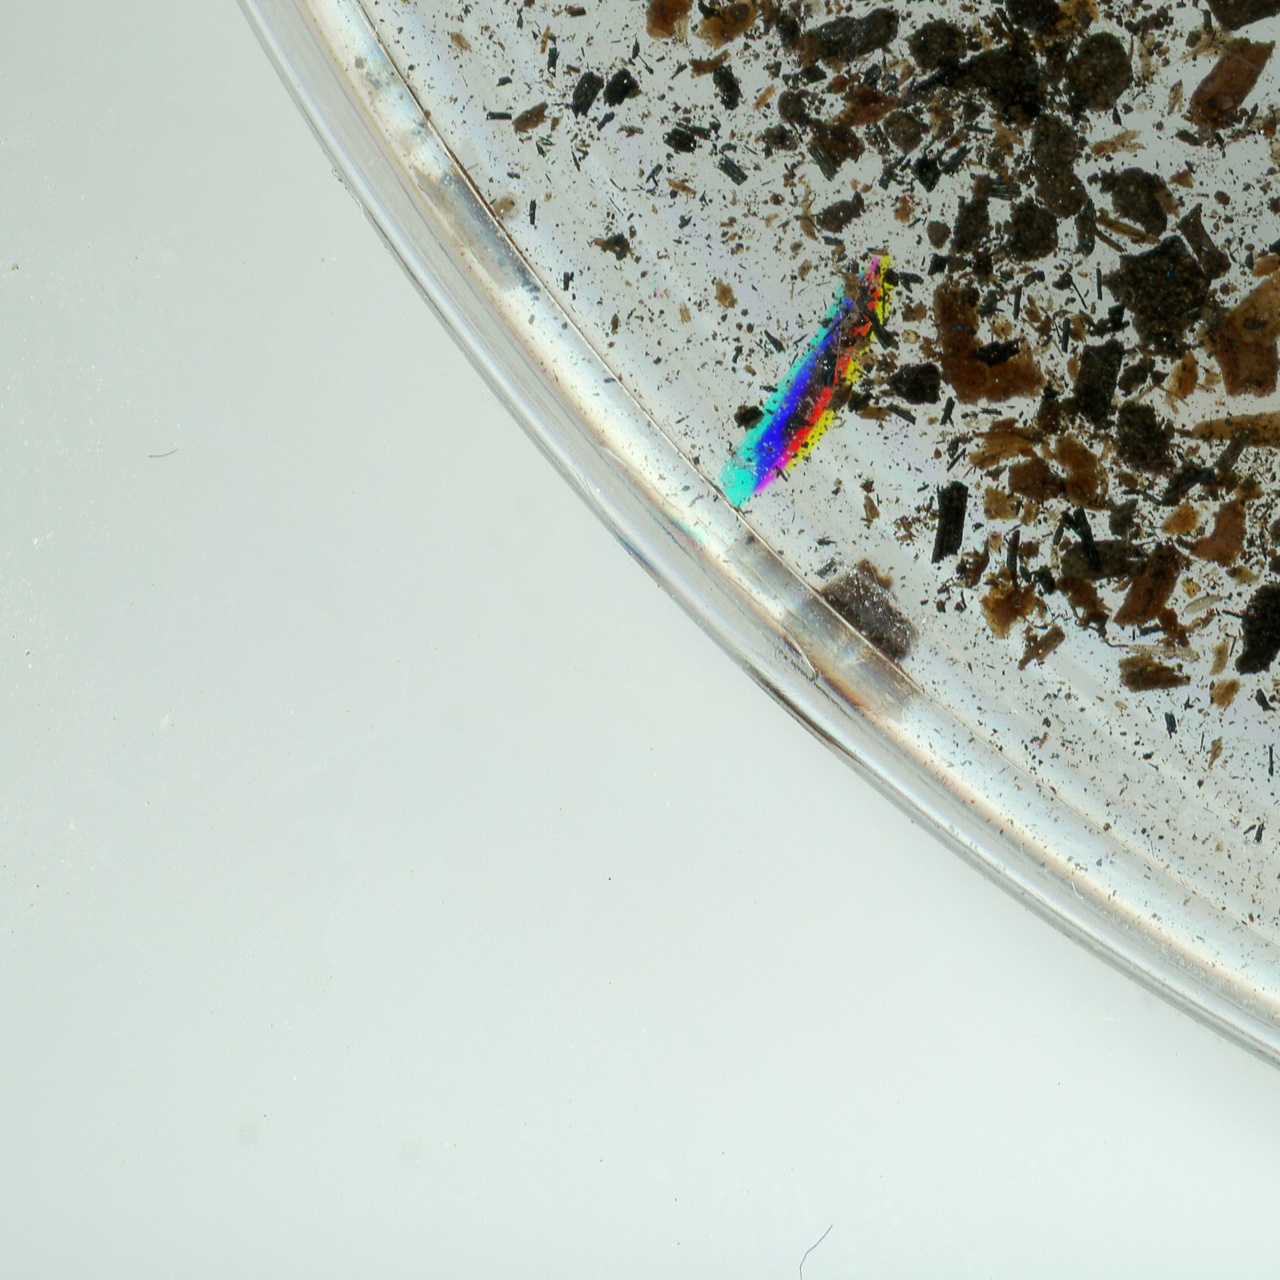arthropod: (1174, 582, 1234, 625)
